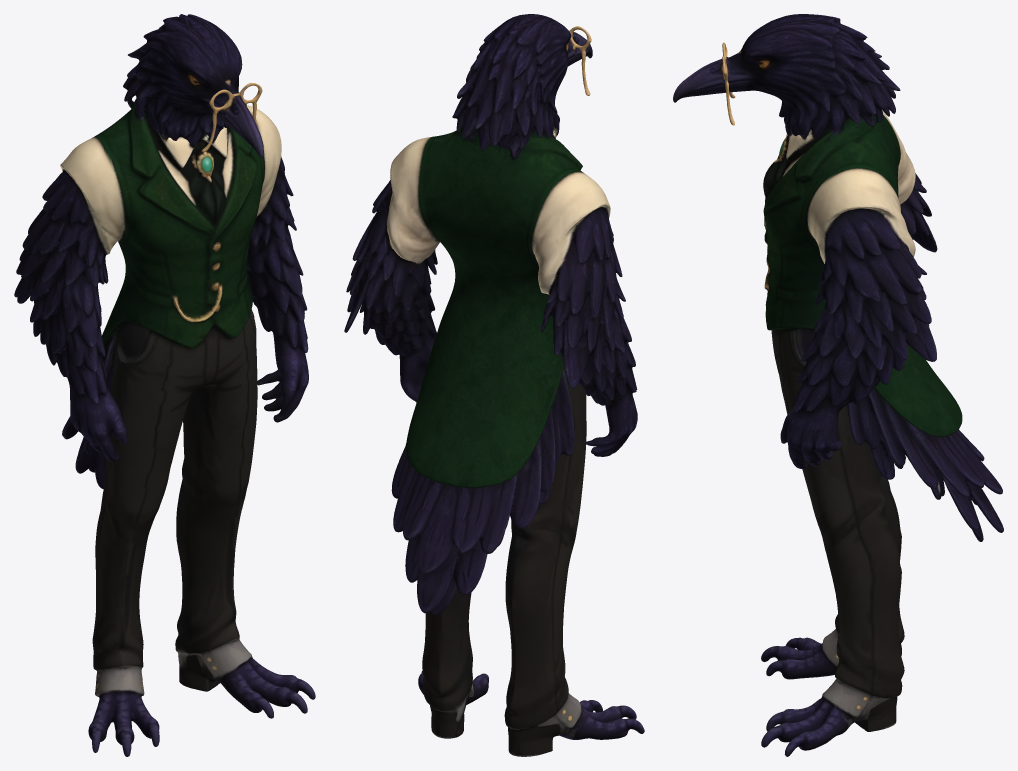
Rendered from corvo_detailed.glb.
3 views of the same model, side by side, from view 1: azimuth 30°, elevation 25°; view 2: azimuth 150°, elevation 25°; view 3: azimuth 270°, elevation 25° (orthographic).
Parts seen in each view (by area): view 1: mesh_node; view 2: mesh_node; view 3: mesh_node.
Boxes of the visible parts, x1,y1,x2,y2 form: mesh_node: (14, 14, 315, 756); mesh_node: (344, 14, 644, 756); mesh_node: (673, 14, 1003, 756).
Bounding box in the file's own units: 0.7407 × 1.9 × 0.8292.
1 material, 1 textured.
